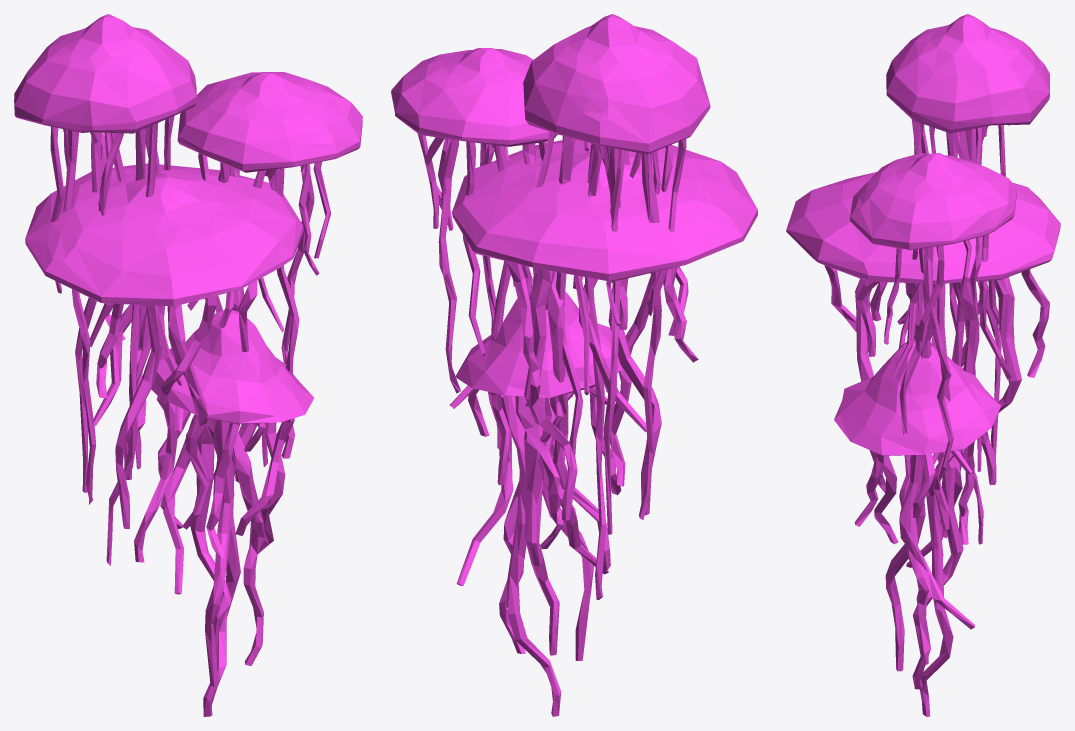
File: SM_Mushroom_Jellyfish_Big_Cluster_A_Fantasy.fbx
The picture shows the model from 3 angles, left to right: view 1: azimuth 30°, elevation 25°; view 2: azimuth 150°, elevation 25°; view 3: azimuth 270°, elevation 25°; orthographic projection. The views are drawn at different scales.
Parts seen in each view (by area): view 1: SM_Mushroom_Jellyfish_Big_Cluster_A_Fantasy; view 2: SM_Mushroom_Jellyfish_Big_Cluster_A_Fantasy; view 3: SM_Mushroom_Jellyfish_Big_Cluster_A_Fantasy.
Boxes of the visible parts, x1,y1,x2,y2 form: SM_Mushroom_Jellyfish_Big_Cluster_A_Fantasy: [14, 14, 362, 716]; SM_Mushroom_Jellyfish_Big_Cluster_A_Fantasy: [391, 14, 757, 716]; SM_Mushroom_Jellyfish_Big_Cluster_A_Fantasy: [786, 14, 1060, 716].
Bounding box in the file's own units: 3.04 × 6.45 × 2.41.
